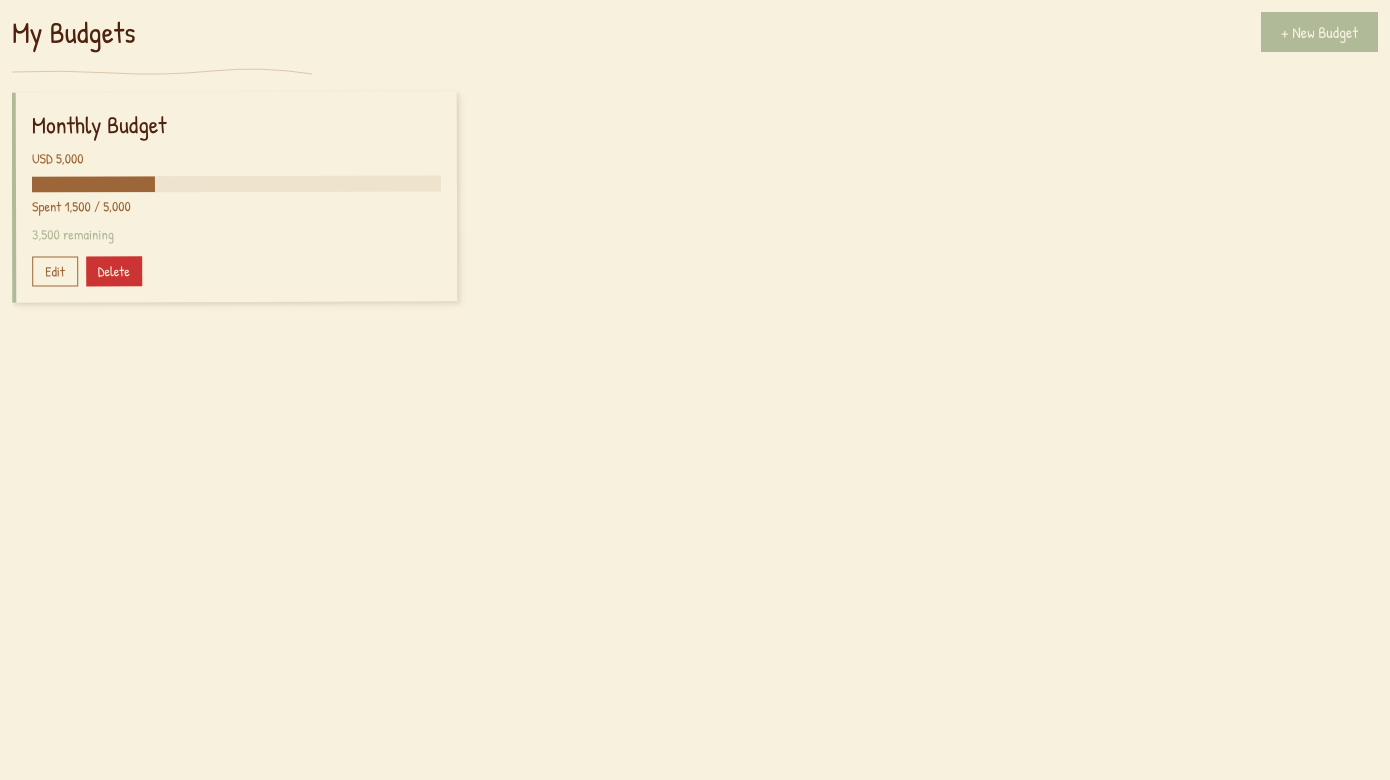
Test: DashboardPage › shows create form on button click
Check: the heading "Monthly Budget" is shown, box [32,108,167,141]
Step 1. Click the button "+ New Budget" → (1319, 32), box [1261,12,1378,52]
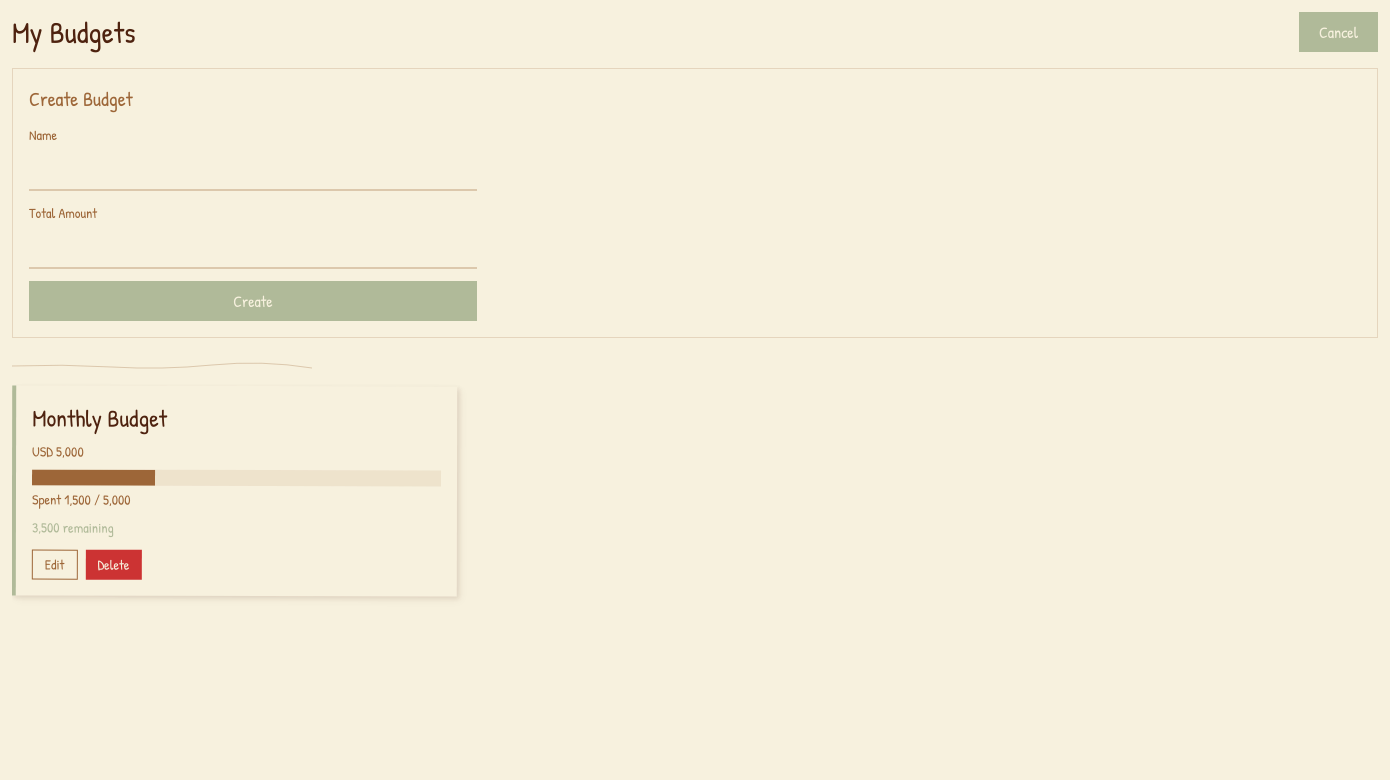
Check: the heading "Create Budget" is shown, box [29,85,133,112]
Check: the field labelled "Name" is shown, box [29,149,477,191]
Check: the number field labelled "Total Amount" is shown, box [29,227,477,269]
